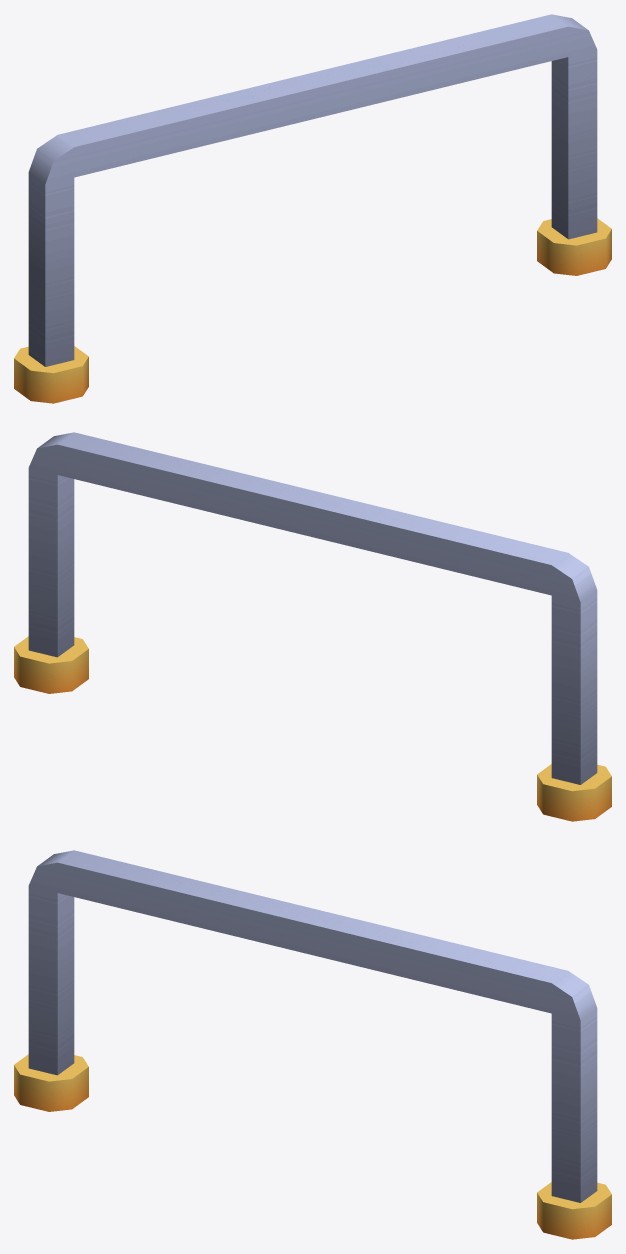
File: rail.glb
3 renders of one model, top to bottom at view 1: azimuth 30°, elevation 25°; view 2: azimuth 150°, elevation 25°; view 3: azimuth 330°, elevation 25°, orthographic.
Parts seen in each view (by area): view 1: rail; view 2: rail; view 3: rail.
Part boxes in pixels (bbox=[...]): rail: bbox=[14, 14, 611, 403]; rail: bbox=[14, 432, 611, 821]; rail: bbox=[14, 850, 611, 1239].
Bounding box in the file's own units: 1 × 0.4 × 0.1.
Materials: 1 (1 with a texture image).
